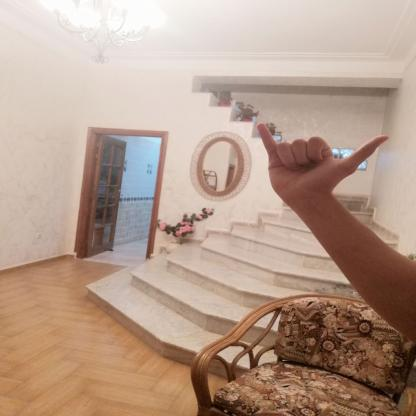YA: (246, 112, 400, 210)
